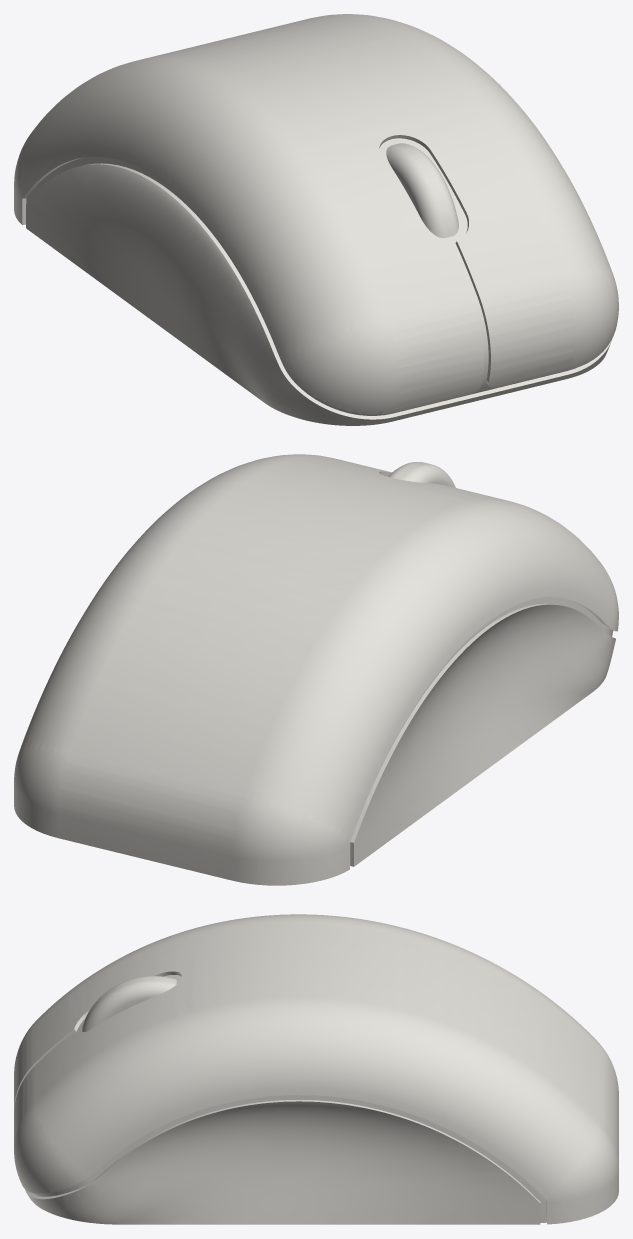
The model's file is  Mouse.glb.
3 renders of one model, top to bottom at view 1: azimuth 30°, elevation 25°; view 2: azimuth 150°, elevation 25°; view 3: azimuth 270°, elevation 25°, orthographic. The views are drawn at different scales.
Visible parts, largest first — view 1: Mouse.1; view 2: Mouse.1; view 3: Mouse.1.
Part boxes in pixels (x1,y1,x2,y2): Mouse.1: [14, 14, 618, 425]; Mouse.1: [14, 454, 618, 885]; Mouse.1: [14, 914, 618, 1224].
Size of the model in its own units: 0.2233 by 0.1416 by 0.3991.
Materials: 1 (1 with a texture image).
